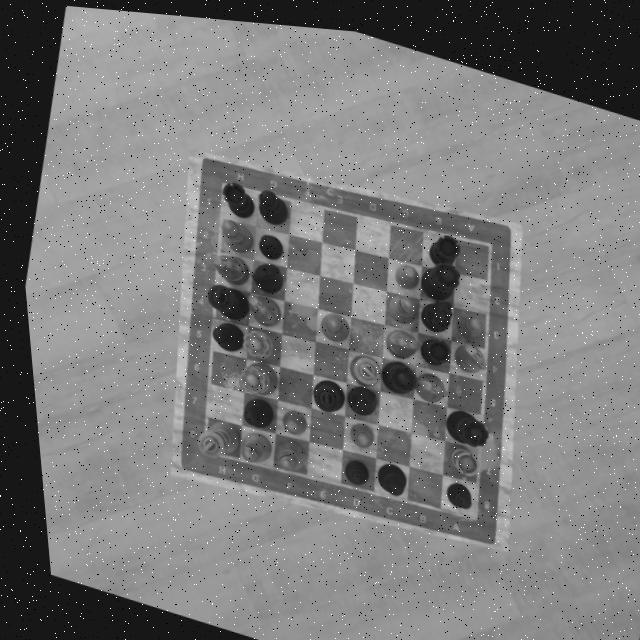chessboard: (196, 182, 486, 513)
